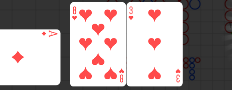10H: (117, 67, 124, 83)
3H: (174, 67, 181, 83)
AD: (40, 29, 58, 38)
